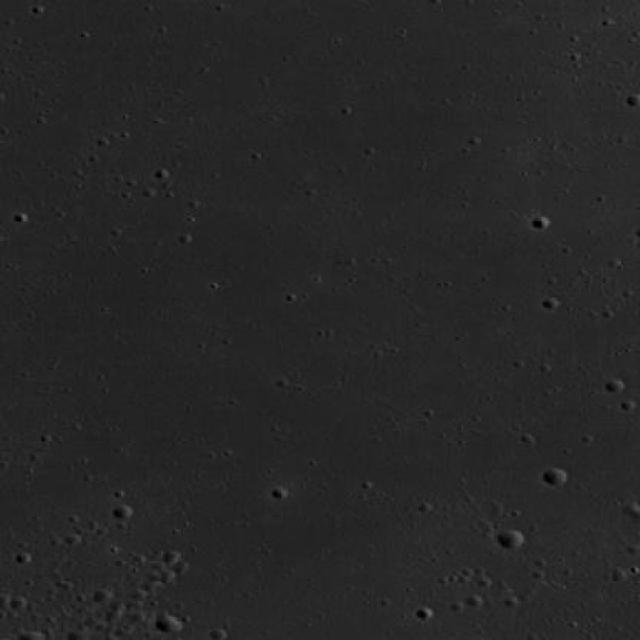crater: (496, 528, 522, 548), (155, 614, 180, 634), (542, 468, 567, 486)
